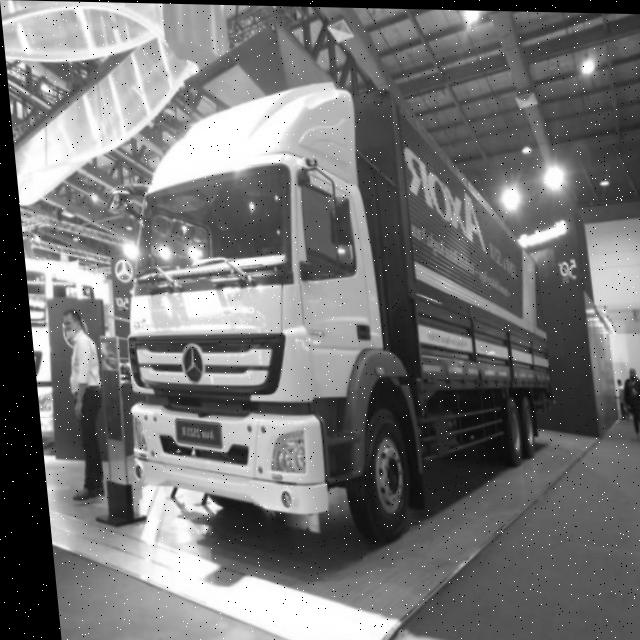truck: (85, 60, 410, 521)
